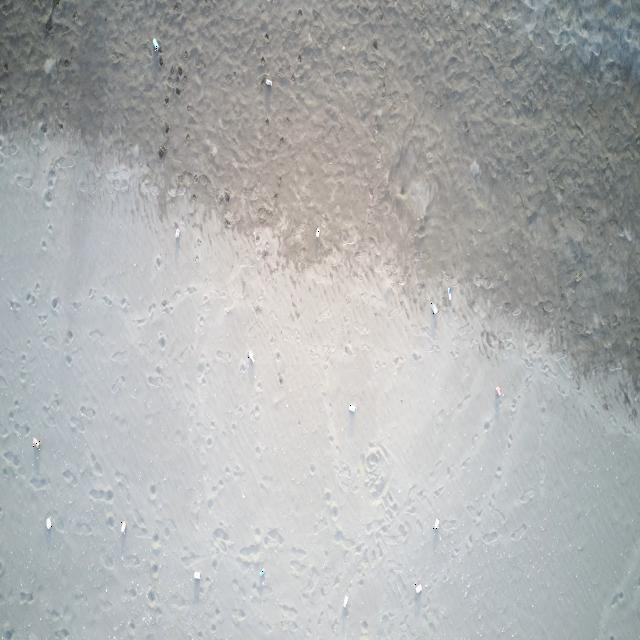Garbage: (468, 161, 480, 176), (44, 57, 55, 72), (152, 37, 159, 51), (32, 436, 40, 448), (44, 516, 51, 528), (430, 301, 436, 315), (432, 517, 439, 529), (495, 386, 503, 396), (247, 350, 253, 363), (192, 571, 200, 580), (348, 403, 355, 412), (415, 583, 422, 592), (175, 226, 180, 238), (264, 77, 271, 85), (120, 520, 124, 533), (447, 287, 451, 300), (343, 595, 347, 607), (259, 567, 263, 576), (315, 227, 319, 236)
